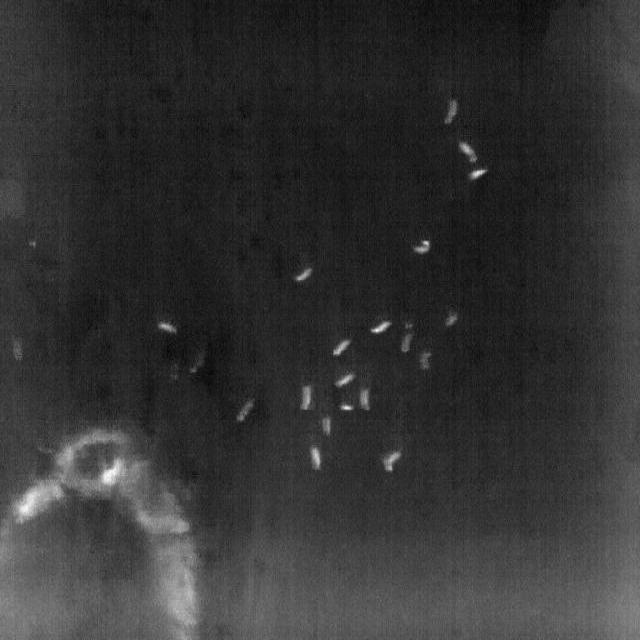deer: (380, 449, 403, 472), (458, 140, 478, 164), (236, 398, 256, 422), (400, 323, 414, 353), (333, 371, 357, 388), (299, 385, 313, 411), (444, 99, 458, 125), (332, 339, 352, 356), (157, 319, 178, 335), (370, 320, 392, 335), (412, 240, 433, 255), (309, 445, 321, 471), (467, 168, 489, 182), (418, 351, 432, 371), (359, 388, 370, 411), (295, 268, 313, 282), (445, 309, 459, 326), (322, 414, 332, 437), (339, 402, 356, 411)
